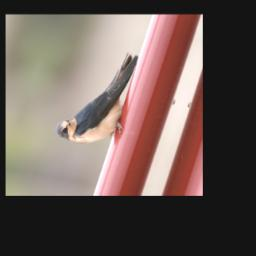Swallow: (51, 43, 151, 151)
